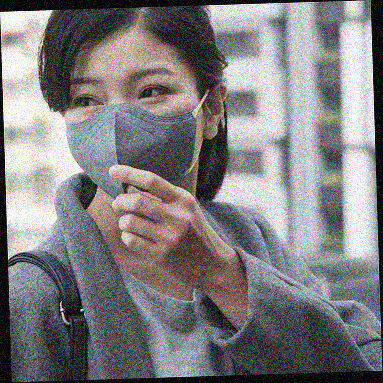with_mask: (62, 66, 206, 207)
